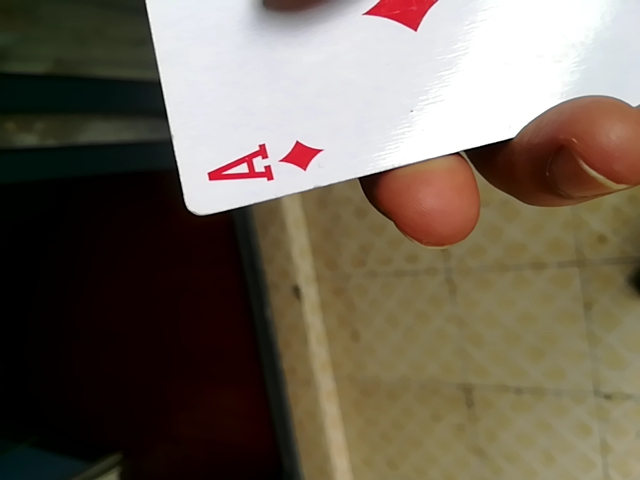fk a: (110, 0, 632, 216)
